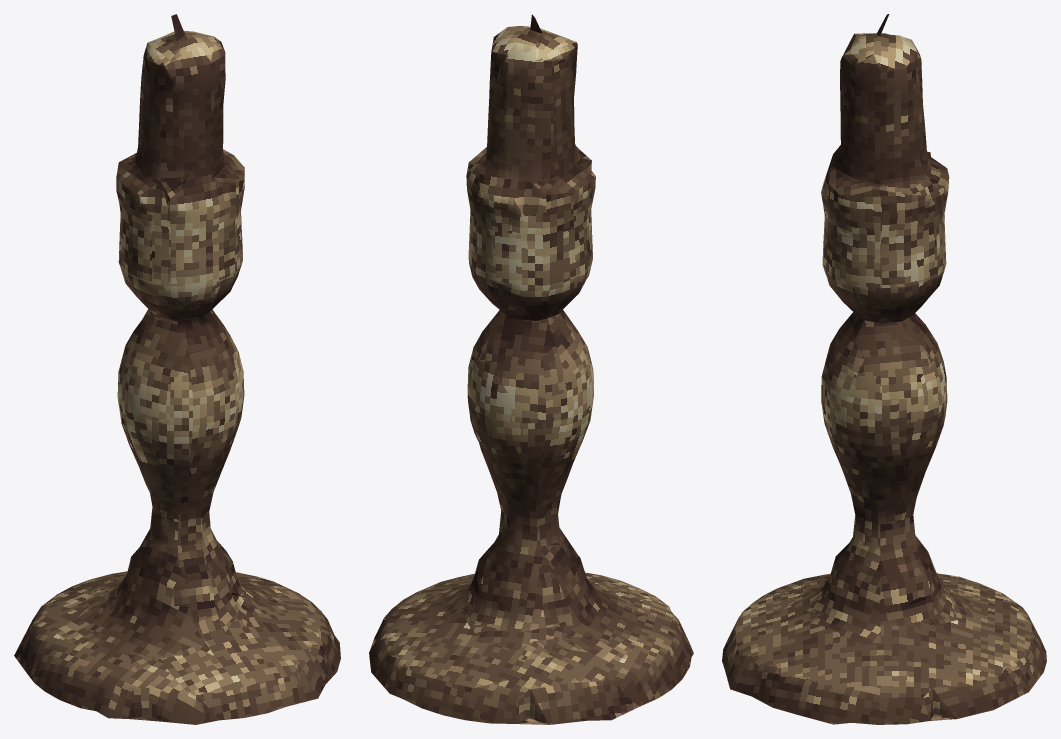
Rendered from wooden_candlestick.glb.
3 views of the same model, side by side, from view 1: azimuth 30°, elevation 25°; view 2: azimuth 150°, elevation 25°; view 3: azimuth 270°, elevation 25° (orthographic).
Parts seen in each view (by area): view 1: body; view 2: body; view 3: body.
Boxes of the visible parts, x1,y1,x2,y2 form: body: (14, 14, 340, 724); body: (369, 14, 693, 724); body: (722, 14, 1046, 724).
Size of the model in its own units: 0.0989 by 0.2197 by 0.1004.
Materials: 1 (1 with a texture image).
